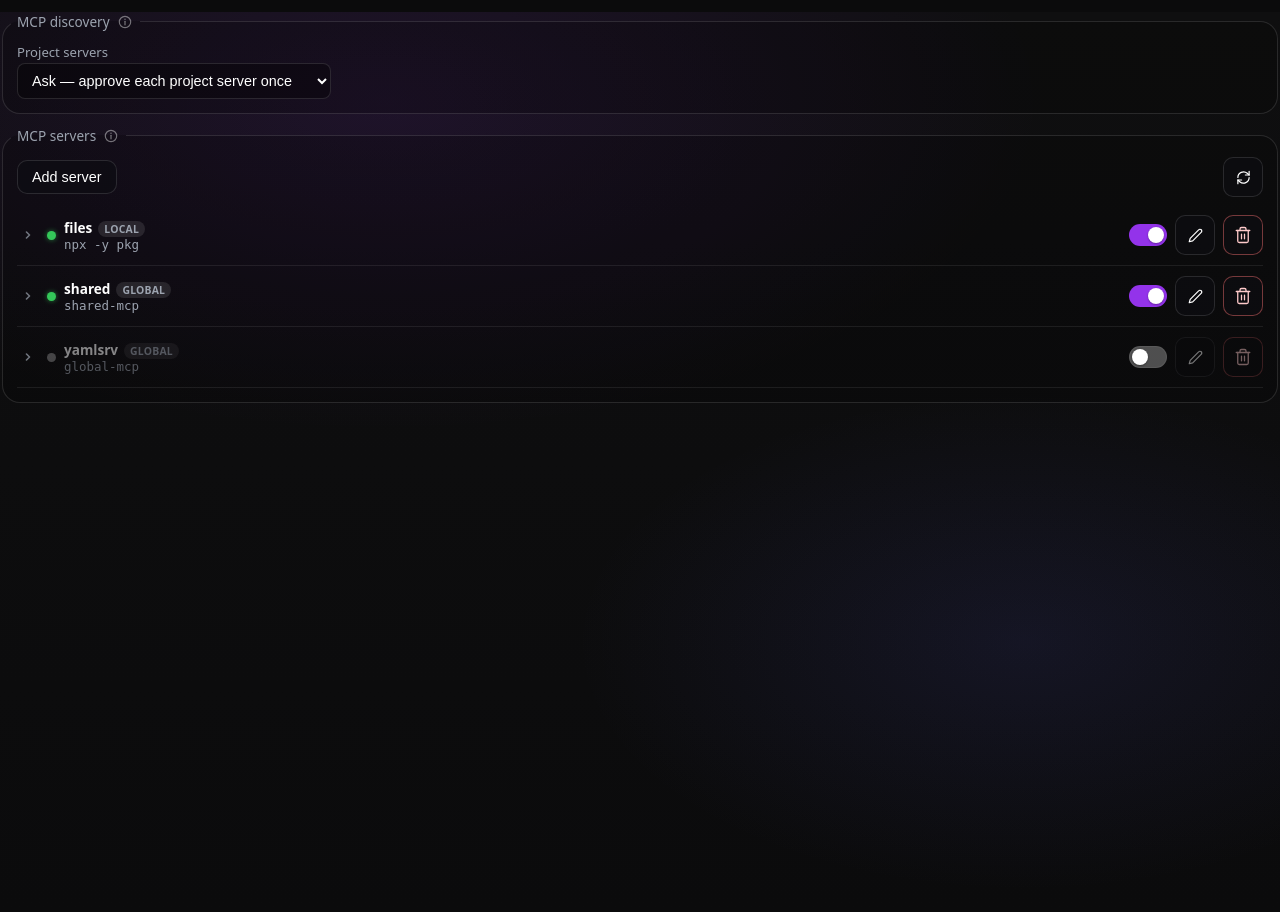
Test case: expanding a server shows per-tool switches reflecting disabled state
This screenshot has width=1280, height=912.
Expected: the list with test id "mcp-list" is shown, [17, 205, 1263, 388]
Click the button with test id "mcp-expand-files": click(28, 235) [17, 224, 39, 246]
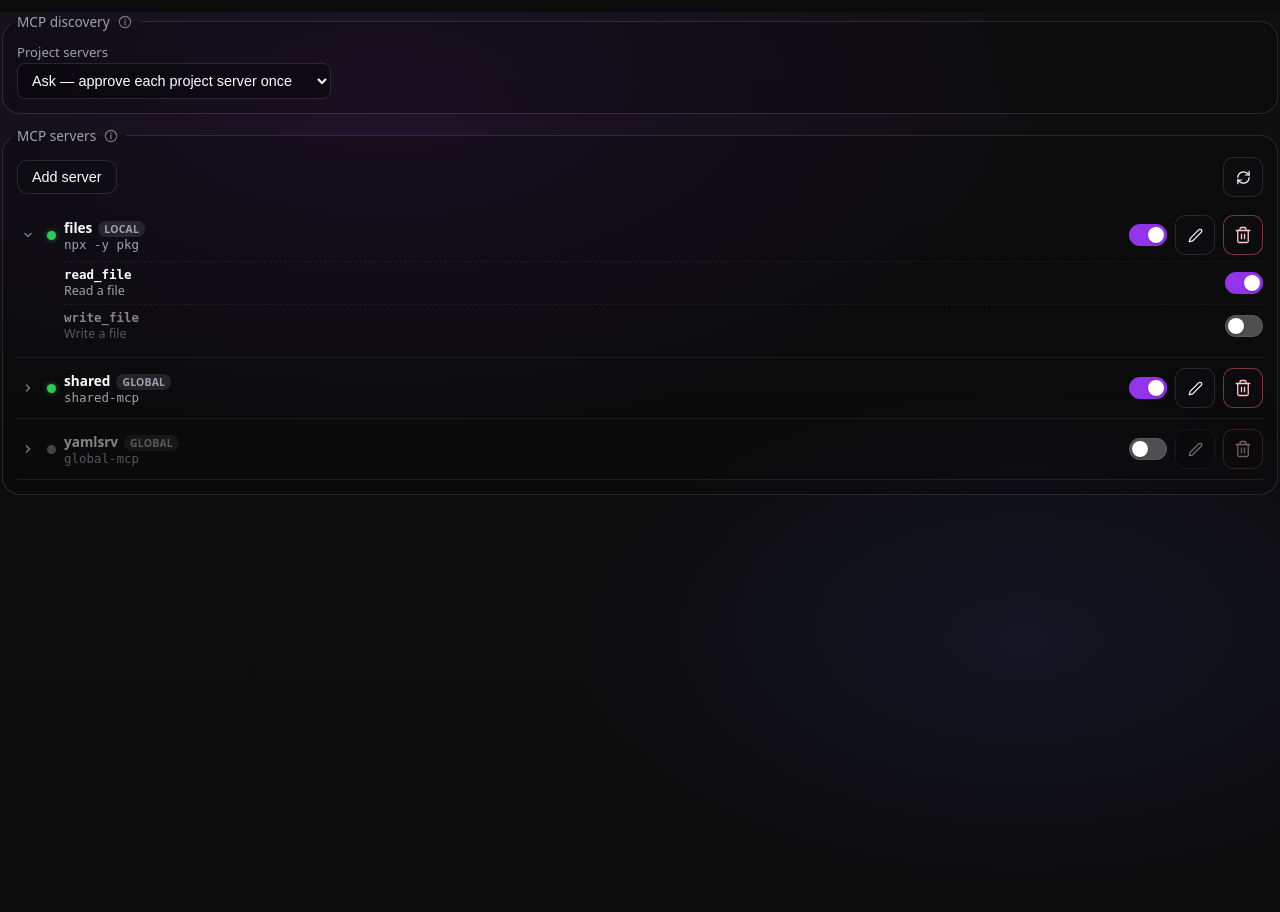
Expected: the list with test id "mcp-tools-files" shows "read_file", [64, 267, 132, 282]
